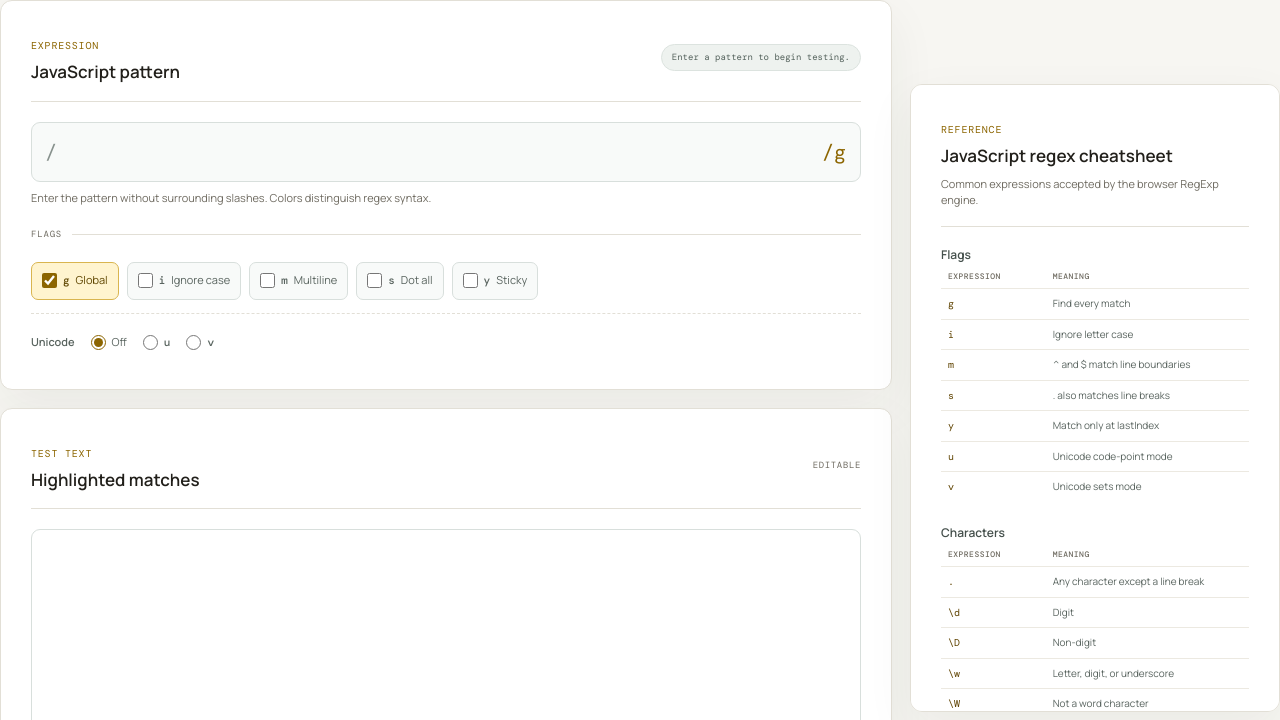
RegexTesterTool › evaluates flag changes and renders match decorations
This screenshot has width=1280, height=720.
Click the checkbox labelled "i Ignore case" at [145, 280], box [138,273,153,288]
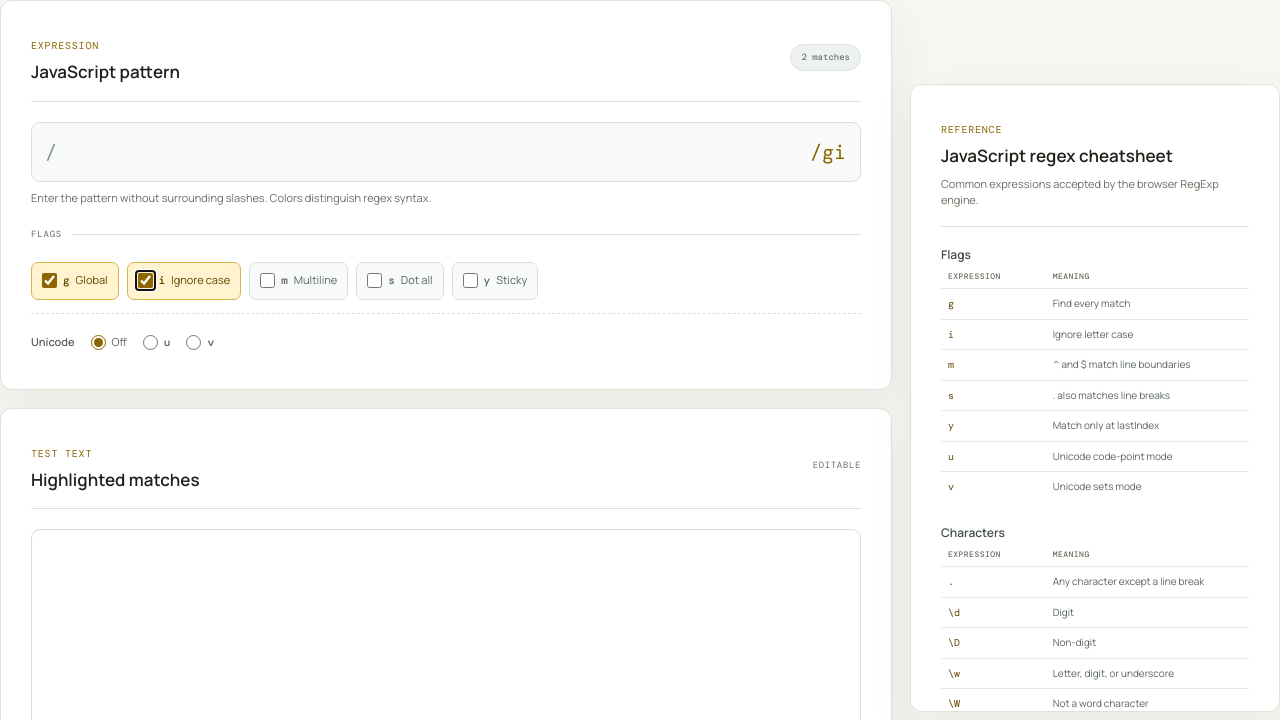
Now the text "2 matches" is shown, box [790,44,861,71]
